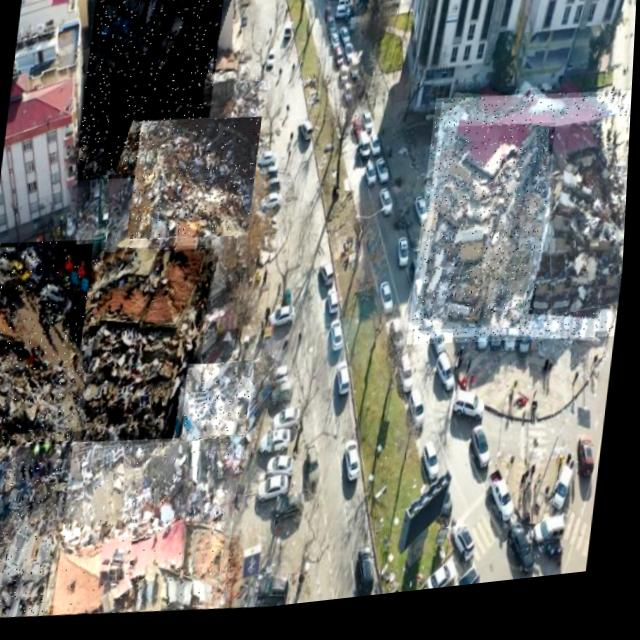Rubble: (409, 91, 634, 369), (58, 429, 249, 629), (422, 128, 564, 349), (79, 241, 218, 460), (75, 0, 225, 191), (0, 234, 104, 454), (536, 125, 633, 333), (129, 113, 263, 251), (0, 452, 68, 623), (184, 362, 261, 450)
